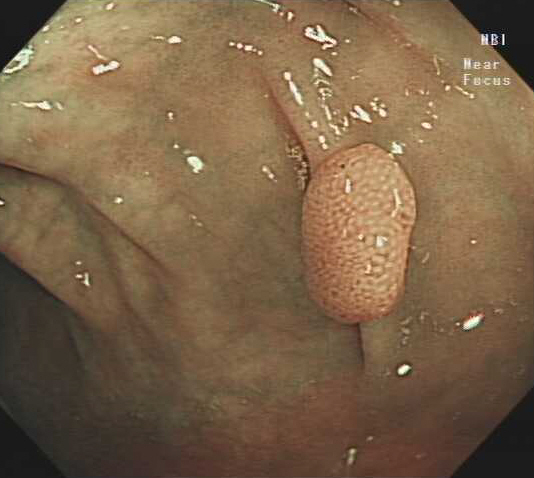adenoma: (297, 140, 419, 328)
